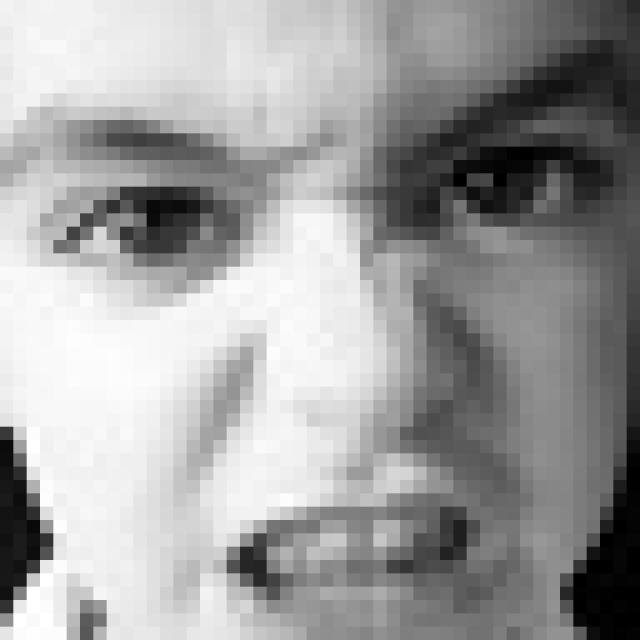angry: (34, 37, 629, 627)
